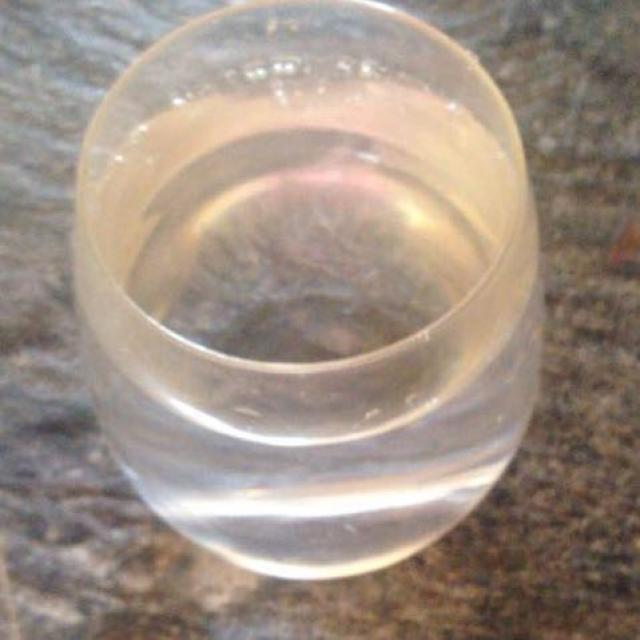water: (106, 81, 488, 359)
